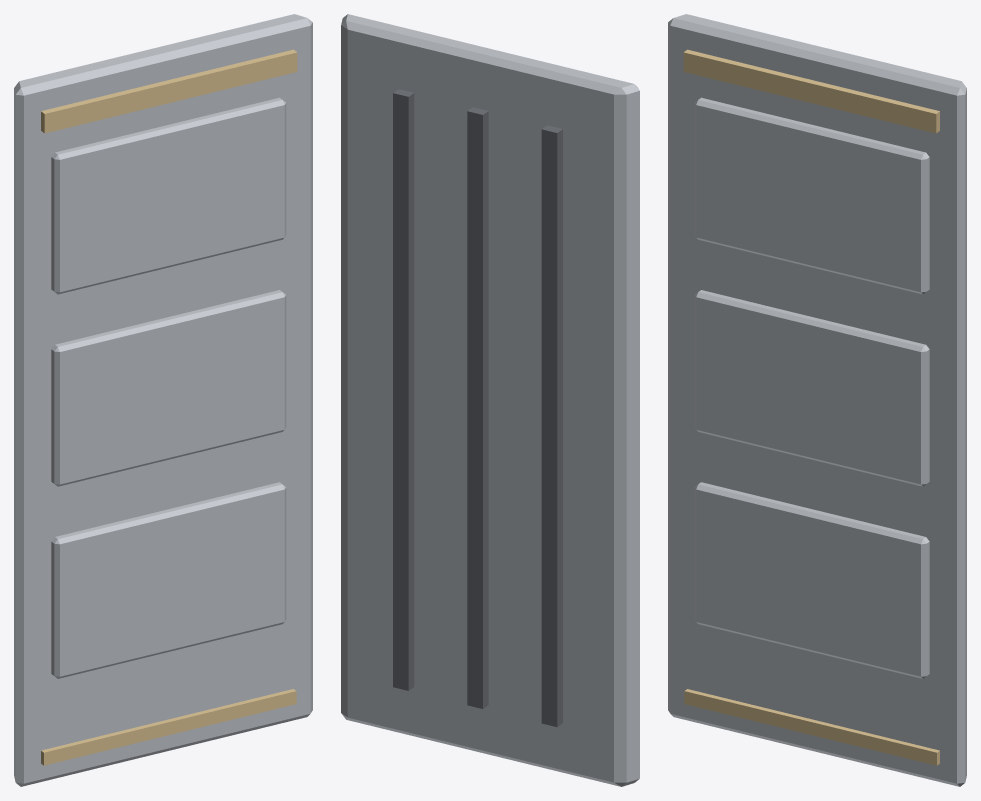
File: bastion.shell_facet_upper.glb
The picture shows the model from 3 angles, left to right: view 1: azimuth 30°, elevation 25°; view 2: azimuth 150°, elevation 25°; view 3: azimuth 330°, elevation 25°; orthographic projection.
Bounding box in the file's own units: 3.83 × 8.6 × 0.5375.
